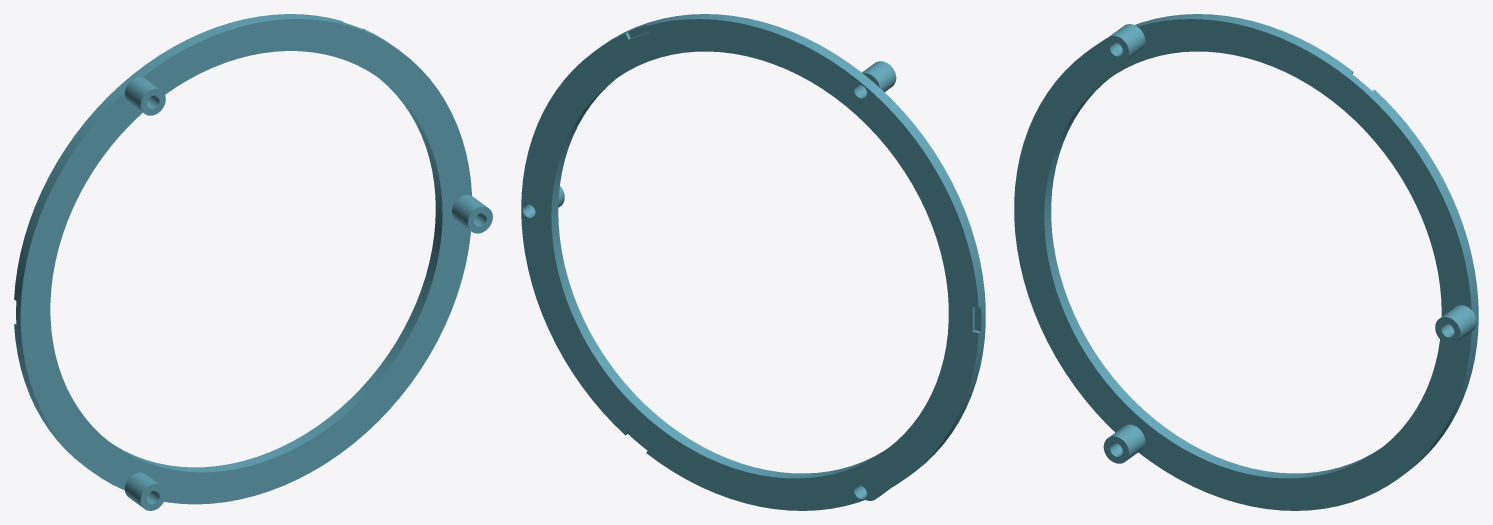
Rendered from Outer_Race_Retainer.glb.
The picture shows the model from 3 angles, left to right: view 1: azimuth 30°, elevation 25°; view 2: azimuth 150°, elevation 25°; view 3: azimuth 330°, elevation 25°; orthographic projection.
Parts seen in each view (by area): view 1: Outer_Race_Retainer_0; view 2: Outer_Race_Retainer_0; view 3: Outer_Race_Retainer_0.
Boxes of the visible parts, <box> form: Outer_Race_Retainer_0: <box>14,14,492,510</box>; Outer_Race_Retainer_0: <box>521,14,985,510</box>; Outer_Race_Retainer_0: <box>1014,14,1478,510</box>.
Size of the model in its own units: 58.2 by 57.59 by 5.
